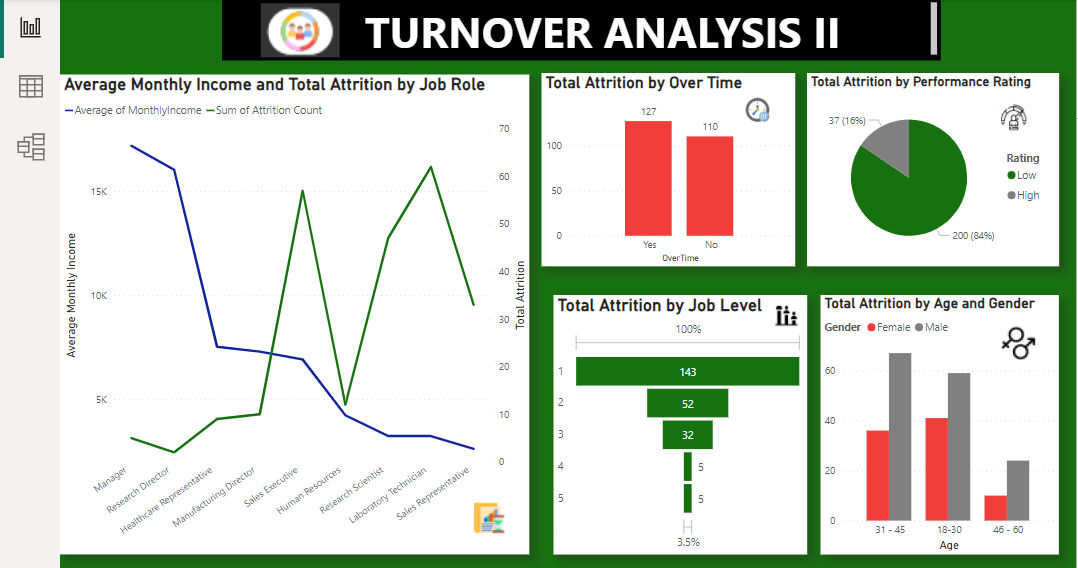

The dashboard page shown, as its layout file describes it:
{"tool":"powerbi","page":{"name":"Page 4","canvas":[1280,720],"ordinal":3},"visuals":[{"type":"textbox","box":[203.4,0,905,78.4],"z":0},{"type":"clusteredColumnChart","title":"Total Attrition by Age and Gender","fields":{"Y":["Sum(HR-Employee-Attrition.Attrition Count)"],"Series":["HR-Employee-Attrition.Gender"],"Category":["HR-Employee-Attrition.Age (groups)"]},"box":[957.2,373.8,300.2,326.6],"z":1000},{"type":"pieChart","title":"Total Attrition by Performance Rating","fields":{"Y":["Sum(HR-Employee-Attrition.Attrition Count)"],"Category":["HR-Employee-Attrition.PerformanceRating (groups)"]},"box":[940.2,94.4,317.2,243.5],"z":2000},{"type":"clusteredColumnChart","title":"Total Attrition by Over Time","fields":{"Category":["HR-Employee-Attrition.OverTime"],"Y":["Sum(HR-Employee-Attrition.Attrition Count)"]},"box":[606,94.4,319.1,243.5],"z":3000},{"type":"funnel","title":"Total Attrition by Job Level","fields":{"Category":["HR-Employee-Attrition.JobLevel"],"Y":["Sum(HR-Employee-Attrition.Attrition Count)"]},"box":[621.1,373.8,319.1,326.6],"z":4000},{"type":"lineChart","title":"Average Monthly Income and Total Attrition by Job Role","fields":{"Category":["HR-Employee-Attrition.JobRole"],"Y":["Avg(HR-Employee-Attrition.MonthlyIncome)"],"Y2":["Sum(HR-Employee-Attrition.Attrition Count)"]},"box":[0,96.3,590.9,604.1],"z":5000},{"type":"image","box":[836.3,118.9,88.7,43.4],"z":5001},{"type":"image","box":[507.8,623,64.2,62.3],"z":5002},{"type":"image","box":[885.4,373.8,54.7,47.2],"z":5003},{"type":"image","box":[1168.6,118.9,64.2,62.3],"z":5004},{"type":"image","box":[1168.6,398.3,71.7,62.3],"z":5005},{"type":"image","box":[247.3,0,109.5,81.2],"z":5006}]}

Visuals, with their boxes on the page's 1280x720 design canvas (x1, y1, x2, y2). These are canvas units, not pixel positions in the 1078x568 screenshot, which may show the page scaled, cropped or inside an application window:
textbox: region(203, 0, 1108, 78)
"Total Attrition by Age and Gender" clusteredColumnChart: region(957, 374, 1257, 700)
"Total Attrition by Performance Rating" pieChart: region(940, 94, 1257, 338)
"Total Attrition by Over Time" clusteredColumnChart: region(606, 94, 925, 338)
"Total Attrition by Job Level" funnel: region(621, 374, 940, 700)
"Average Monthly Income and Total Attrition by Job Role" lineChart: region(0, 96, 591, 700)
image: region(836, 119, 925, 162)
image: region(508, 623, 572, 685)
image: region(885, 374, 940, 421)
image: region(1169, 119, 1233, 181)
image: region(1169, 398, 1240, 461)
image: region(247, 0, 357, 81)
